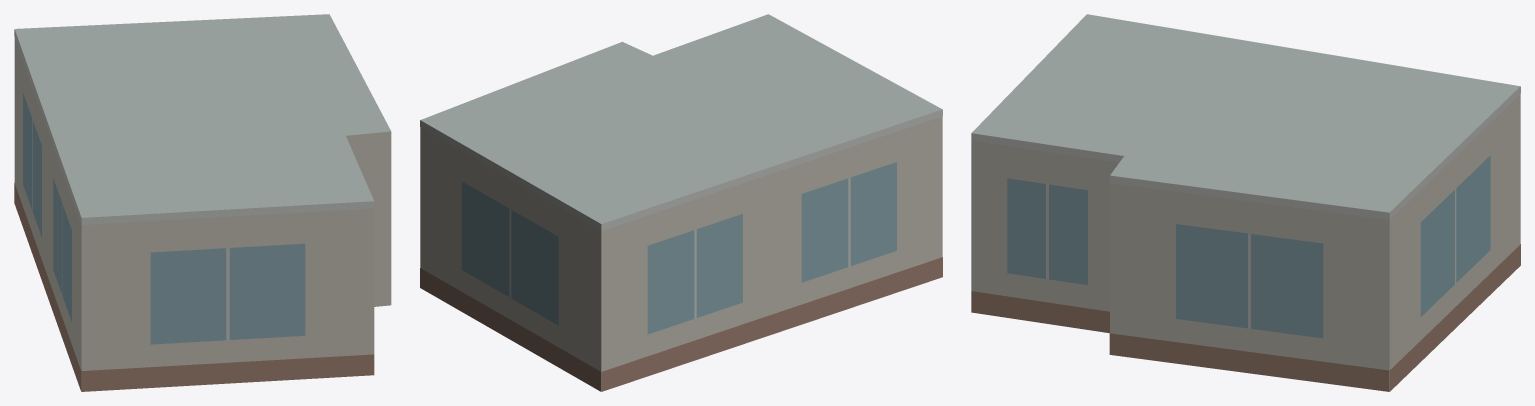
Rendered from survey-upis-32810673.glb.
The picture shows the model from 3 angles, left to right: view 1: azimuth 30°, elevation 25°; view 2: azimuth 150°, elevation 25°; view 3: azimuth 270°, elevation 25°; orthographic projection. The views are drawn at different scales.
Visible parts, largest first — view 1: survey-upis-32810673.tmp; view 2: survey-upis-32810673.tmp; view 3: survey-upis-32810673.tmp.
Boxes of the visible parts, x1,y1,x2,y2 form: survey-upis-32810673.tmp: [14, 14, 391, 391]; survey-upis-32810673.tmp: [420, 14, 942, 391]; survey-upis-32810673.tmp: [971, 14, 1520, 391].
Bounding box in the file's own units: 7.26 × 3.05 × 8.48.
